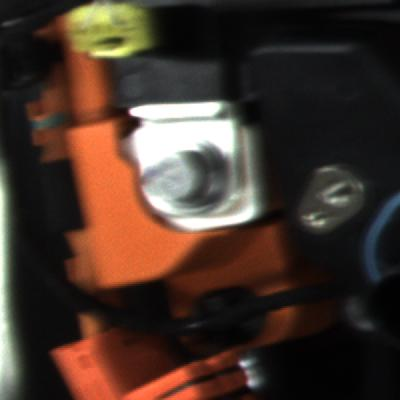nut_b: (144, 143, 246, 215)
